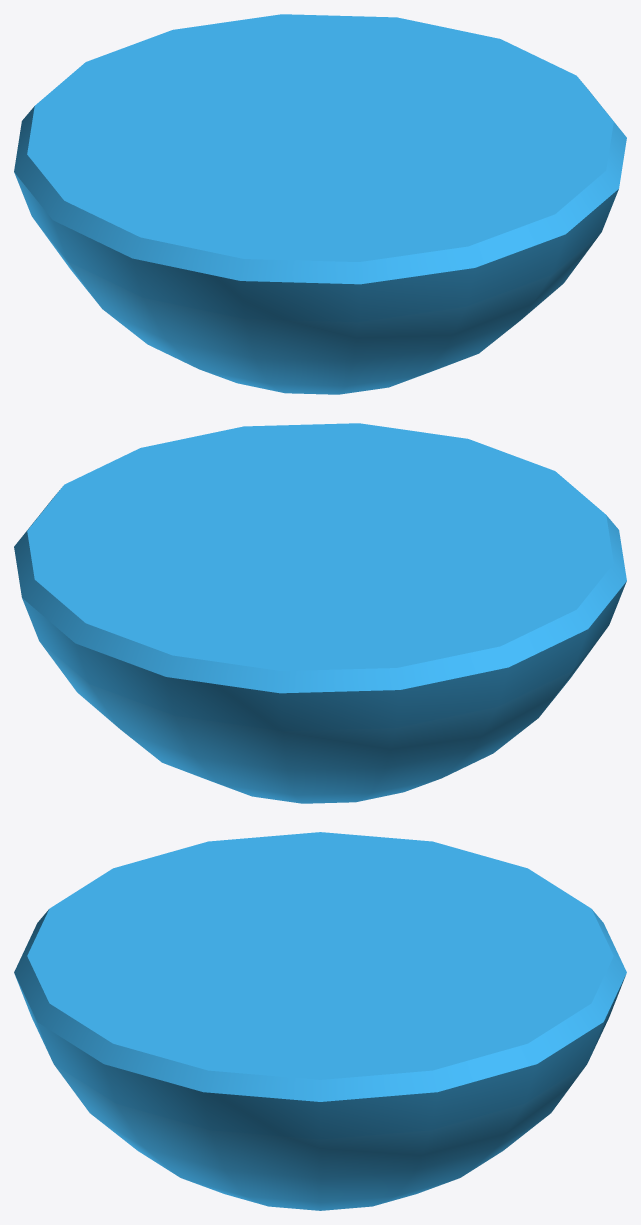
File: Leg_D_01_C04.fbx
3 renders of one model, top to bottom at view 1: azimuth 30°, elevation 25°; view 2: azimuth 150°, elevation 25°; view 3: azimuth 270°, elevation 25°, orthographic.
Visible parts, largest first — view 1: Leg_D_01_C04; view 2: Leg_D_01_C04; view 3: Leg_D_01_C04.
Boxes of the visible parts, x1,y1,x2,y2 form: Leg_D_01_C04: (14,14,626,394); Leg_D_01_C04: (14,423,626,803); Leg_D_01_C04: (14,832,626,1210).
Size of the model in its own units: 95.42 by 38.87 by 95.42.
